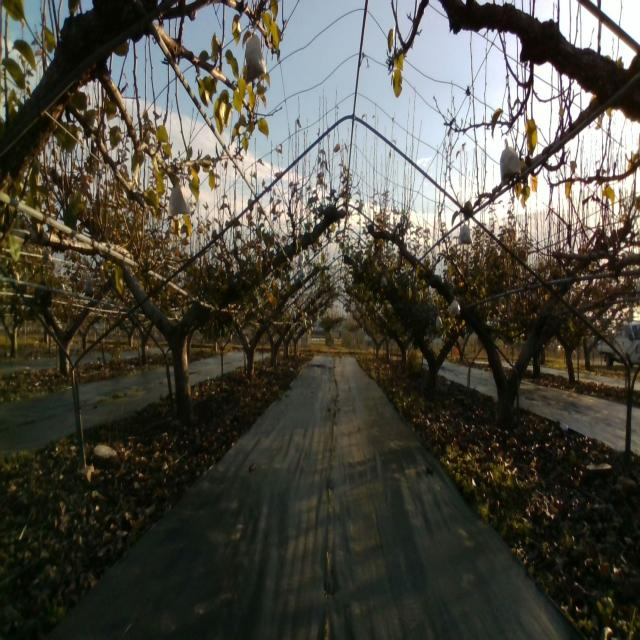pearbags: (244, 32, 266, 84), (499, 138, 521, 181), (167, 182, 191, 218), (458, 219, 473, 246), (448, 294, 460, 317)
